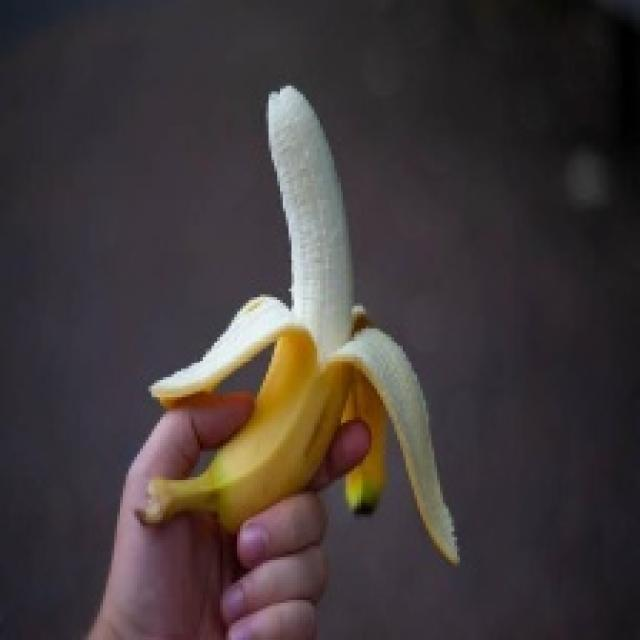Banana: (134, 83, 460, 563)
